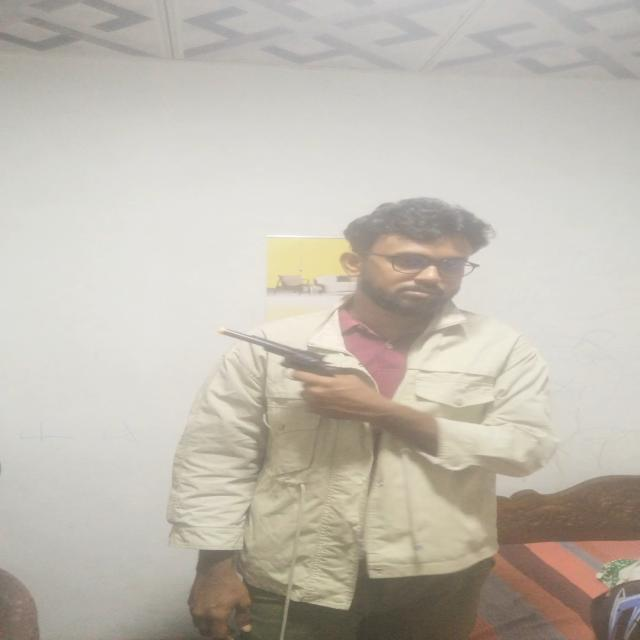Gun_Holder: (215, 320, 391, 403)
Jacket_Wearer: (160, 297, 596, 578)
Person: (166, 188, 548, 640)
